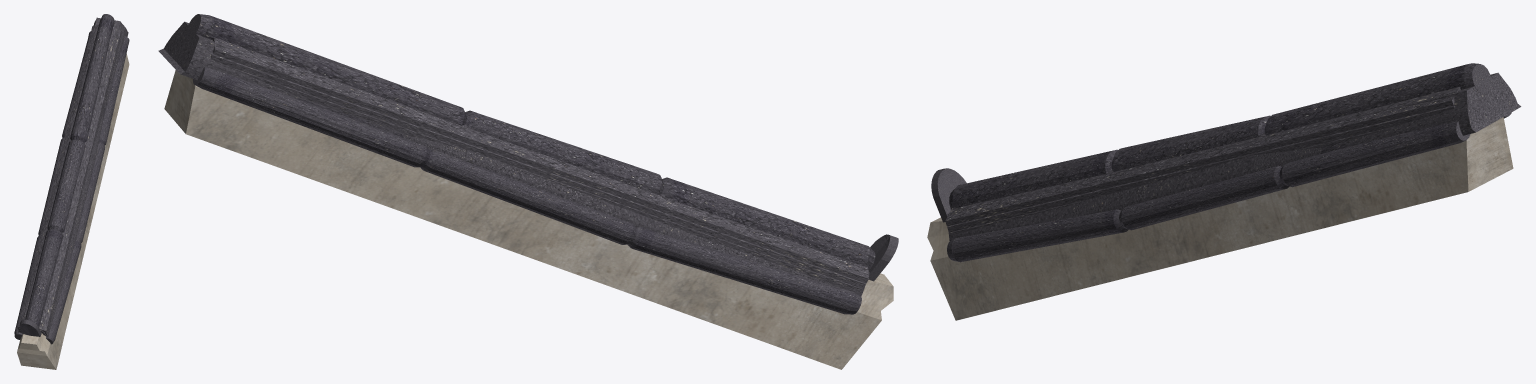
File: SM_R_BeamRoof_20.fbx
3 renders of one model, left to right at view 1: azimuth 30°, elevation 25°; view 2: azimuth 150°, elevation 25°; view 3: azimuth 270°, elevation 25°, orthographic. The views are drawn at different scales.
Visible parts, largest first — view 1: SM_R_BeamRoof_20; view 2: SM_R_BeamRoof_20; view 3: SM_R_BeamRoof_20.
Boxes of the visible parts, x1,y1,x2,y2 form: SM_R_BeamRoof_20: [14, 14, 129, 369]; SM_R_BeamRoof_20: [158, 14, 898, 369]; SM_R_BeamRoof_20: [927, 63, 1521, 320].
Size of the model in its own units: 323 by 347 by 279.
2 materials, 2 textured.
